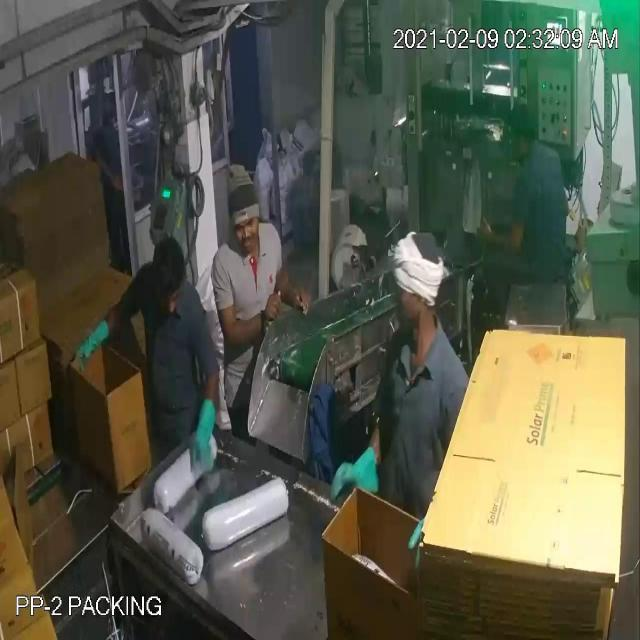Gloves: (44, 52, 500, 478)
